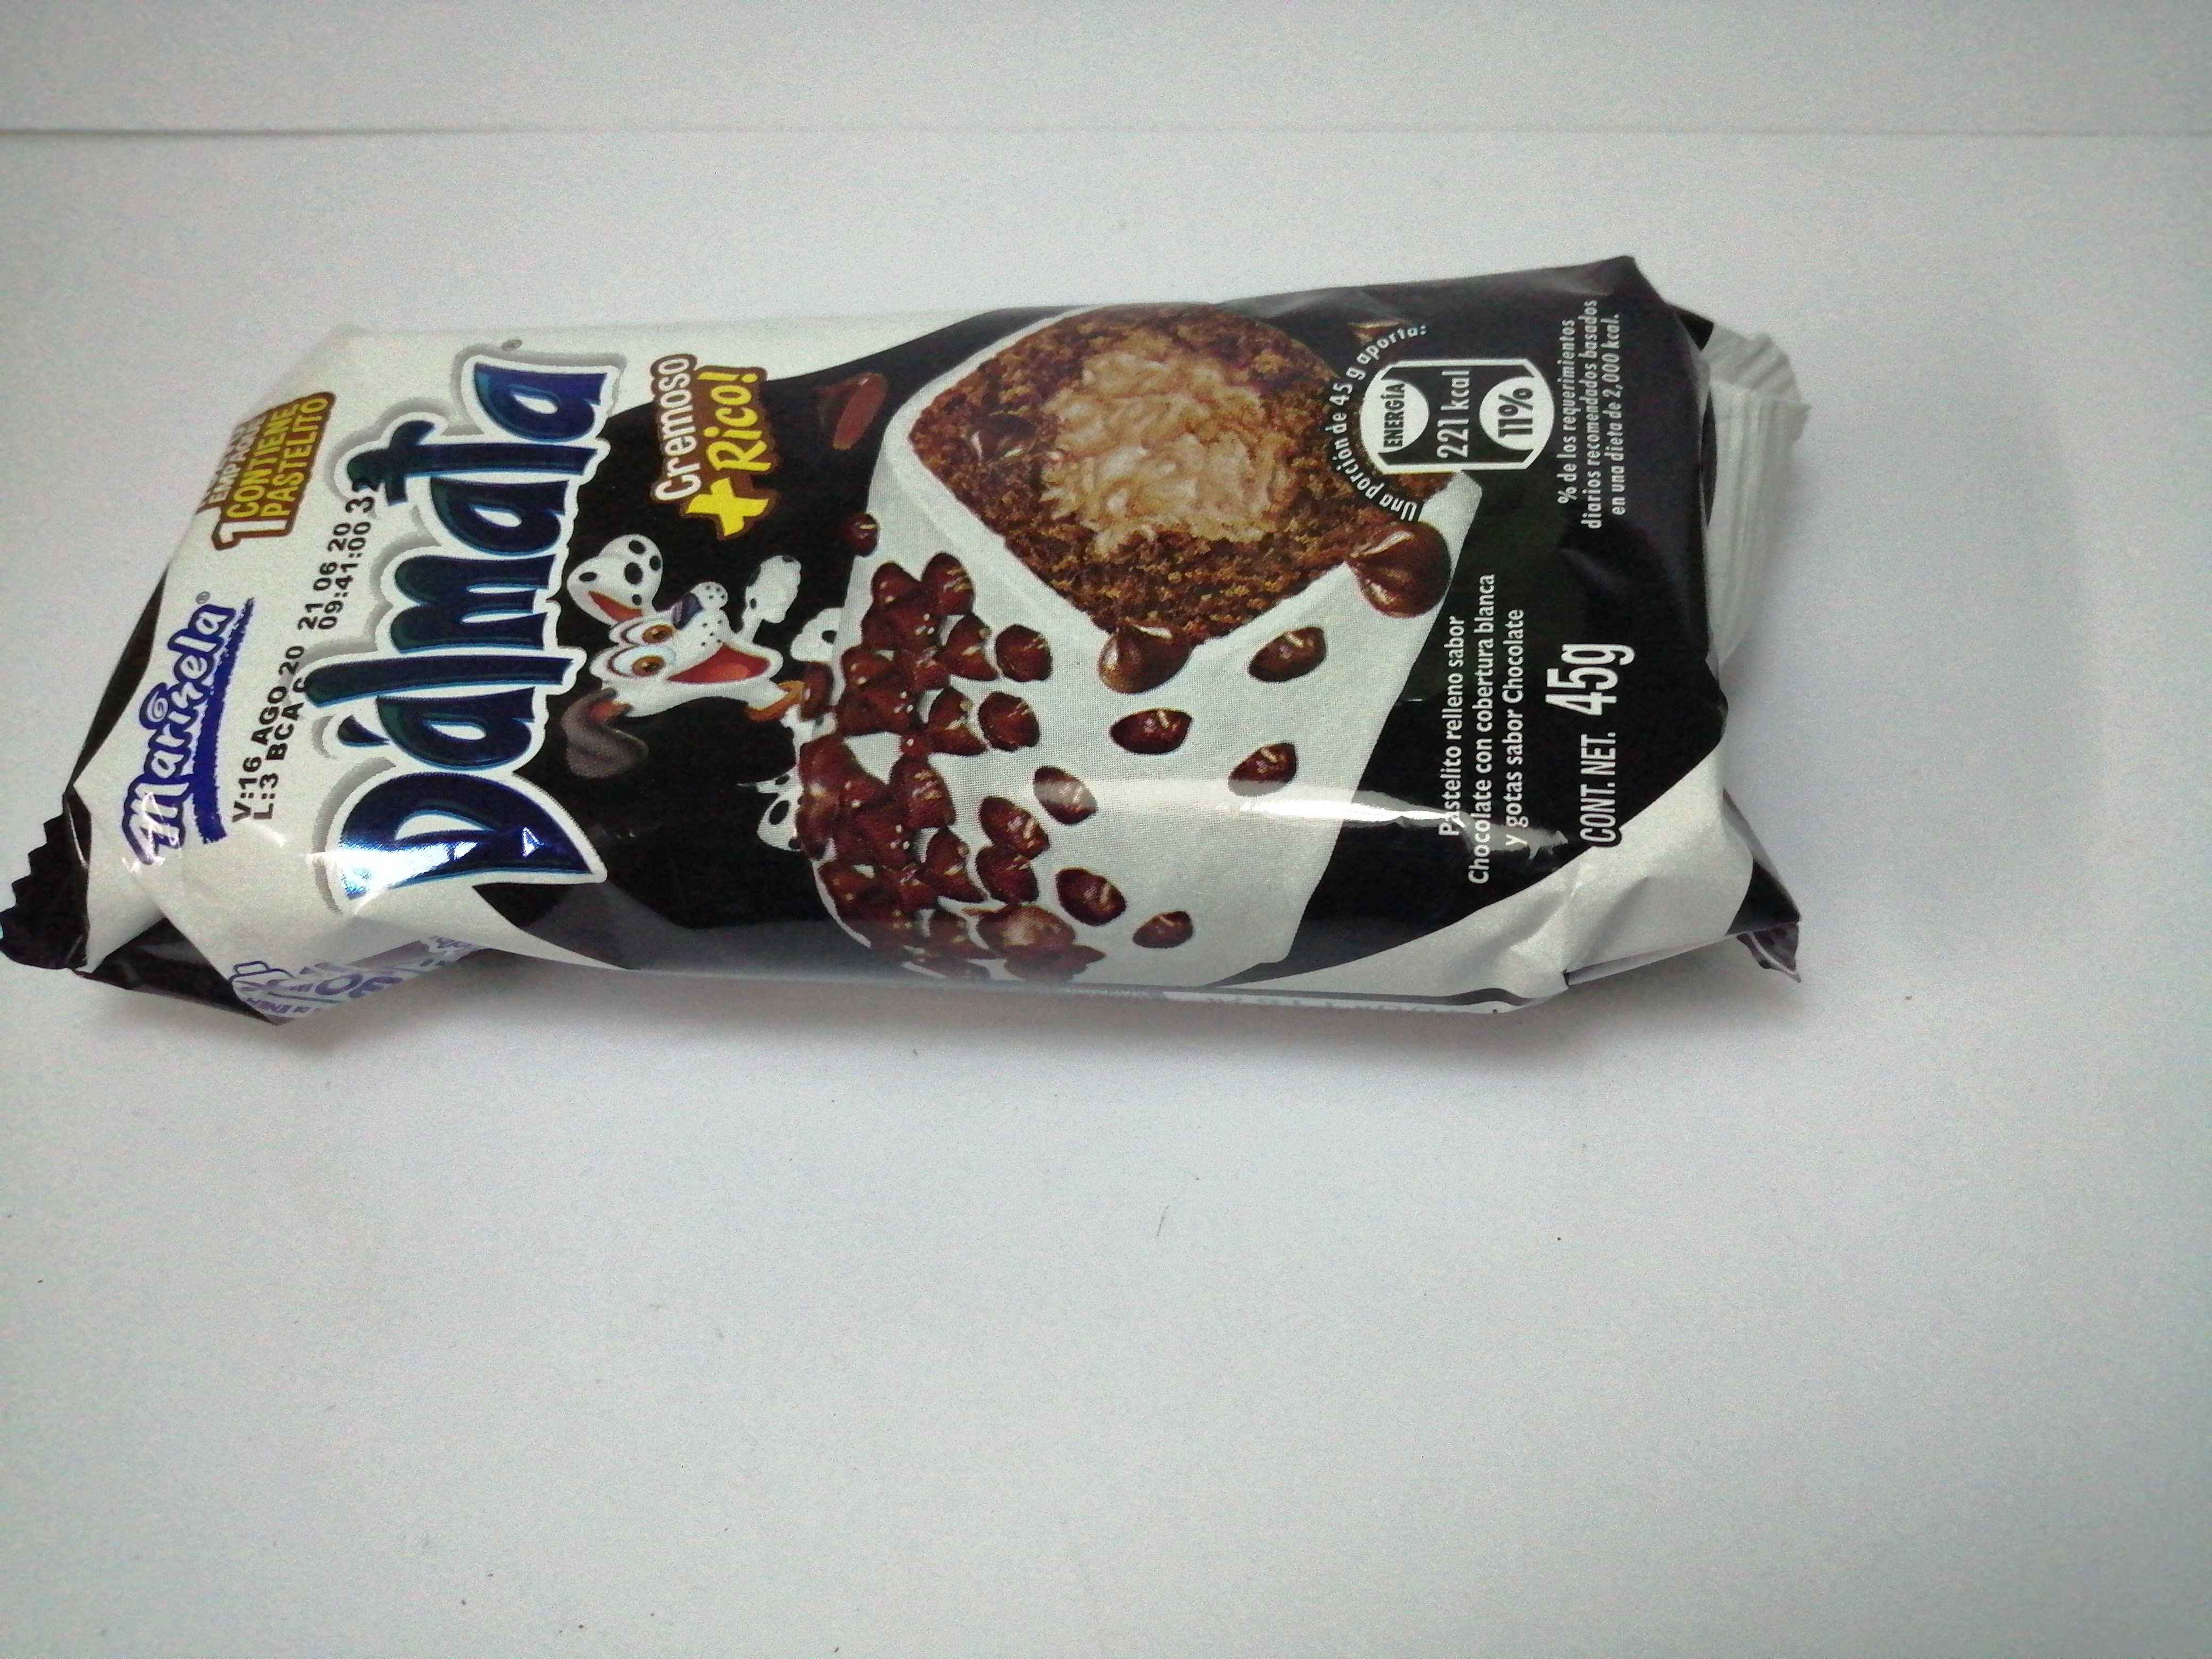dalmata: (9, 247, 1843, 1072)
